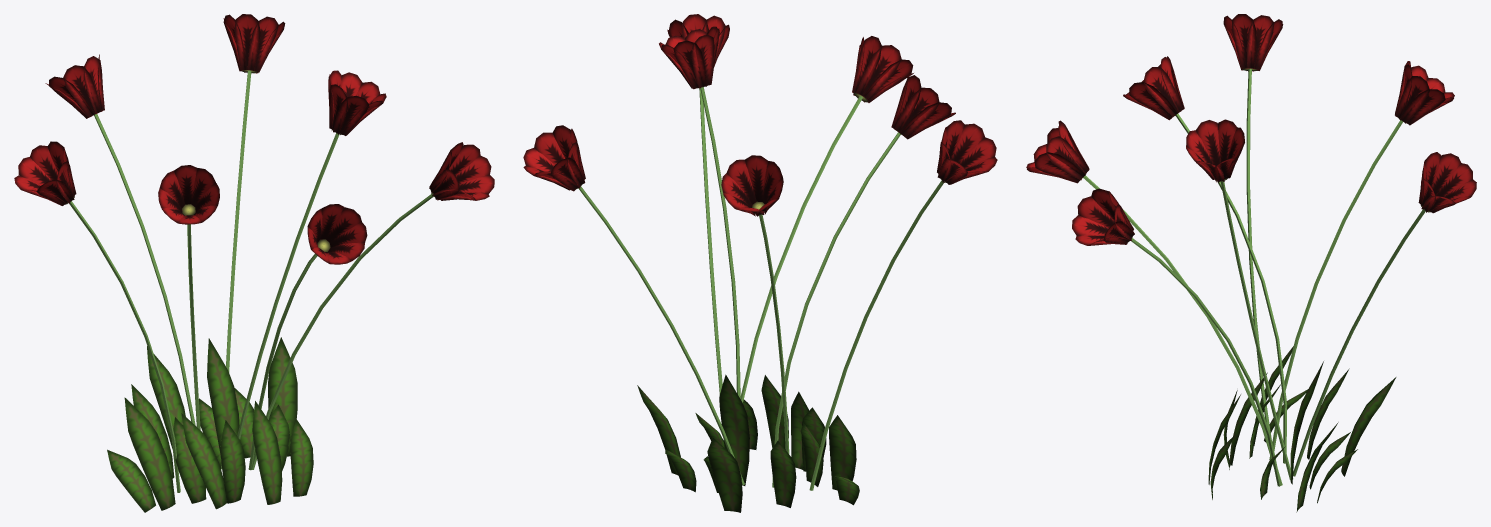
Rendered from planta3.fbx.
3 views of the same model, side by side, from view 1: azimuth 30°, elevation 25°; view 2: azimuth 150°, elevation 25°; view 3: azimuth 270°, elevation 25° (orthographic). The views are drawn at different scales.
Parts seen in each view (by area): view 1: pPlane76, pPlane73, pPlane83, pPlane74, pPlane77, pPlane64, pCylinder8, pPlane85, pCylinder7, pPlane84, pPlane82, pPlane75 (+22 smaller); view 2: pPlane83, pPlane82, pCylinder2, pPlane76, pCylinder4, pCylinder5, pCylinder7, pCylinder3, pCylinder6, pPlane79, pPlane100, pCylinder8 (+19 smaller); view 3: pCylinder8, pCylinder2, pCylinder7, pCylinder3, pCylinder6, pCylinder5, pCylinder4, pPlane82, pPlane108, pPlane72, pPlane71, pPlane101 (+14 smaller).
Boxes of the visible parts, bbox=[...] form: pPlane76: bbox=[124, 397, 175, 510]; pPlane73: bbox=[252, 401, 282, 504]; pPlane83: bbox=[207, 338, 239, 454]; pPlane74: bbox=[181, 413, 227, 509]; pPlane77: bbox=[268, 337, 297, 456]; pPlane64: bbox=[220, 420, 245, 503]; pCylinder8: bbox=[94, 114, 195, 425]; pPlane85: bbox=[290, 419, 313, 496]; pCylinder7: bbox=[237, 133, 339, 439]; pPlane84: bbox=[107, 449, 155, 512]; pPlane82: bbox=[147, 346, 185, 448]; pPlane75: bbox=[172, 417, 206, 503]; pPlane83: bbox=[719, 374, 749, 485]; pPlane82: bbox=[707, 437, 742, 512]; pCylinder2: bbox=[809, 180, 943, 490]; pPlane76: bbox=[829, 415, 856, 490]; pCylinder4: bbox=[740, 95, 862, 402]; pCylinder5: bbox=[772, 132, 900, 487]; pCylinder7: bbox=[700, 87, 740, 398]; pCylinder3: bbox=[578, 186, 744, 485]; pCylinder6: bbox=[699, 88, 722, 394]; pPlane79: bbox=[770, 440, 796, 507]; pPlane100: bbox=[856, 45, 901, 99]; pCylinder8: bbox=[759, 214, 789, 453]; pCylinder8: bbox=[1269, 120, 1402, 459]; pCylinder2: bbox=[1246, 68, 1271, 435]; pCylinder7: bbox=[1220, 181, 1293, 480]; pCylinder3: bbox=[1293, 209, 1425, 476]; pCylinder6: bbox=[1131, 238, 1281, 486]; pCylinder5: bbox=[1175, 113, 1286, 463]; pCylinder4: bbox=[1083, 175, 1282, 485]; pPlane82: bbox=[1341, 377, 1396, 476]; pPlane108: bbox=[1143, 67, 1183, 116]; pPlane72: bbox=[1232, 14, 1256, 68]; pPlane71: bbox=[1246, 15, 1274, 69]; pPlane101: bbox=[1046, 136, 1088, 180].
Bounding box in the file's own units: 1.38 × 1.37 × 1.4.
